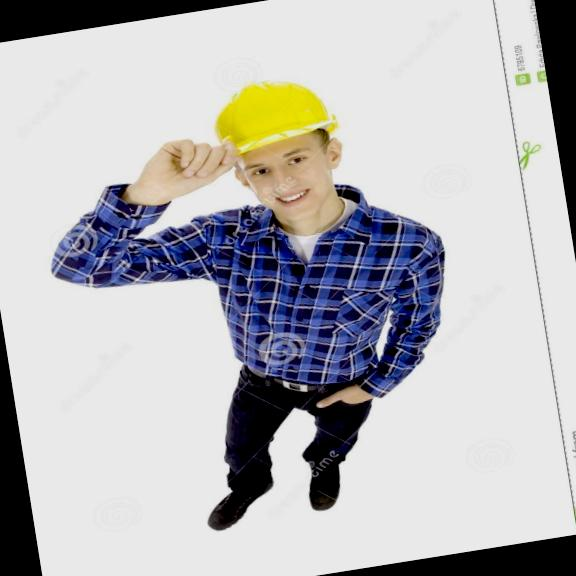no_safety_vest: (188, 175, 456, 416)
